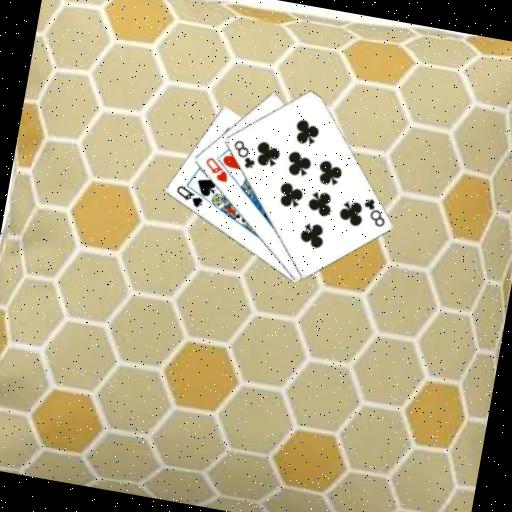8C: (356, 193, 390, 229), (227, 136, 259, 171)
QH: (199, 153, 232, 184)
QS: (170, 181, 206, 210)
